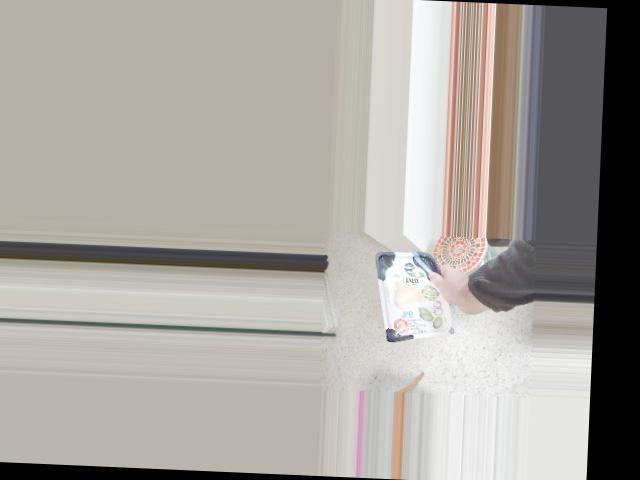cheese: (395, 266, 469, 336)
